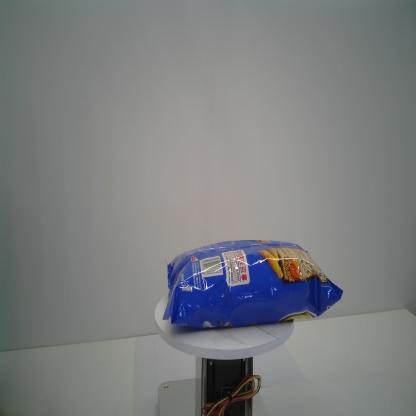Puffed Food: (161, 239, 342, 333)
